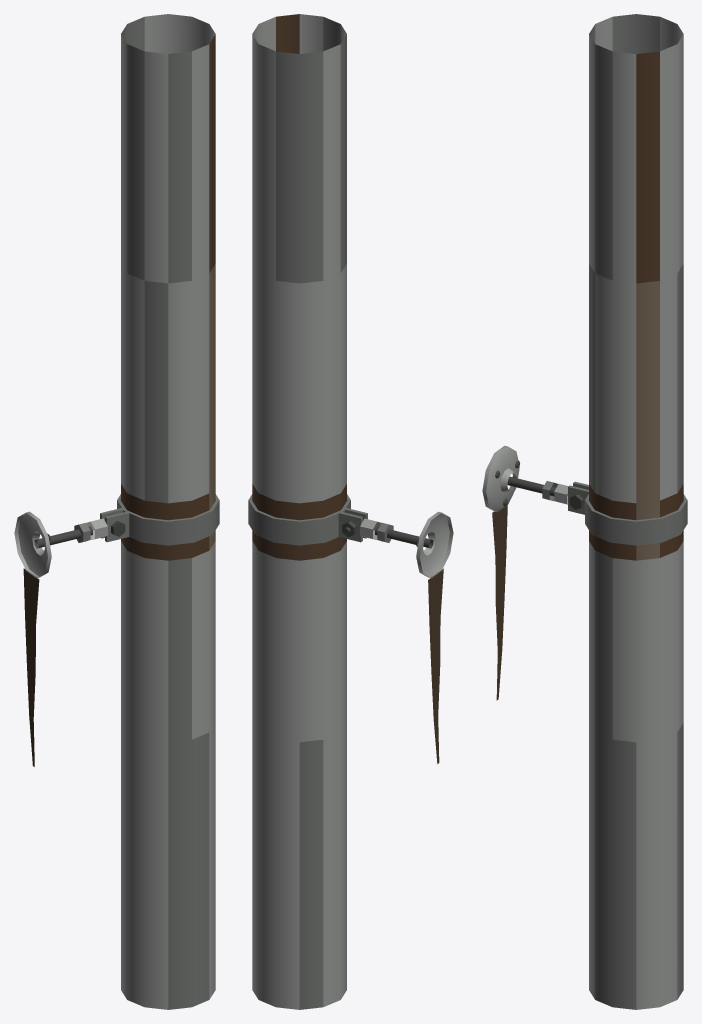
The model's file is pipe_drop.glb.
3 renders of one model, left to right at view 1: azimuth 30°, elevation 25°; view 2: azimuth 150°, elevation 25°; view 3: azimuth 330°, elevation 25°, orthographic.
Visible parts, largest first — view 1: pipe_drop0, pipe_drop1, pipe_drop2, pipe_drop3, pipe_drop5, pipe_drop4; view 2: pipe_drop0, pipe_drop1, pipe_drop2, pipe_drop5, pipe_drop4; view 3: pipe_drop0, pipe_drop1, pipe_drop2, pipe_drop3, pipe_drop5, pipe_drop4.
Boxes of the visible parts, x1,y1,x2,y2 form: pipe_drop0: (14, 14, 215, 1009); pipe_drop1: (74, 17, 219, 1009); pipe_drop2: (121, 34, 215, 560); pipe_drop3: (209, 264, 215, 550); pipe_drop5: (23, 568, 39, 766); pipe_drop4: (34, 521, 125, 548); pipe_drop0: (252, 14, 453, 1009); pipe_drop1: (248, 17, 393, 1009); pipe_drop2: (252, 14, 346, 560); pipe_drop5: (428, 568, 443, 763); pipe_drop4: (342, 521, 433, 548); pipe_drop0: (482, 17, 683, 1009); pipe_drop1: (542, 14, 687, 1009); pipe_drop2: (589, 51, 683, 560); pipe_drop3: (636, 281, 659, 560); pipe_drop5: (492, 505, 507, 700); pipe_drop4: (495, 460, 583, 509).
Bounding box in the file's own units: 0.1986 × 1 × 0.0972.
